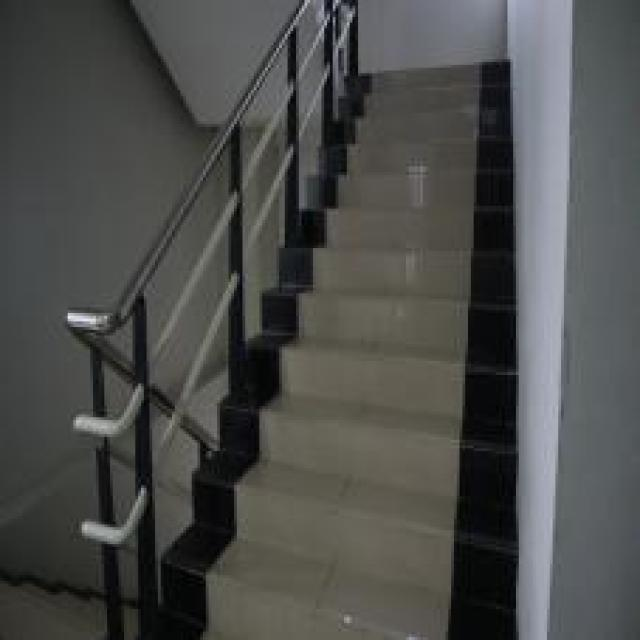upstair: (306, 213, 509, 537)
